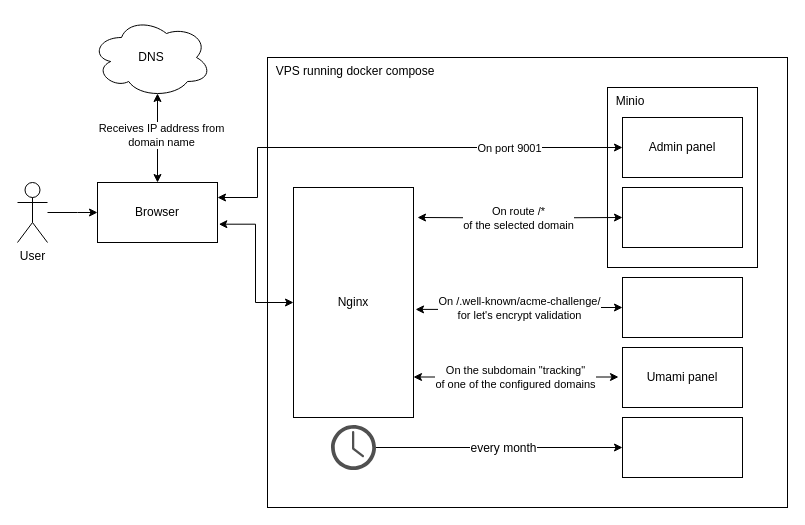
This 805x525 diagram has some shape labels left out. The shapes that lost their labels are listed below. From the top down, each one's box as (x1, y1, x2, y2) in pixels, then its label:
(622, 186, 742, 248): File Server
(622, 276, 742, 338): File system on ~/certbot/www/.well-known/acme-challenge
(330, 424, 376, 470): crontab
(622, 416, 742, 478): Renew certificates
